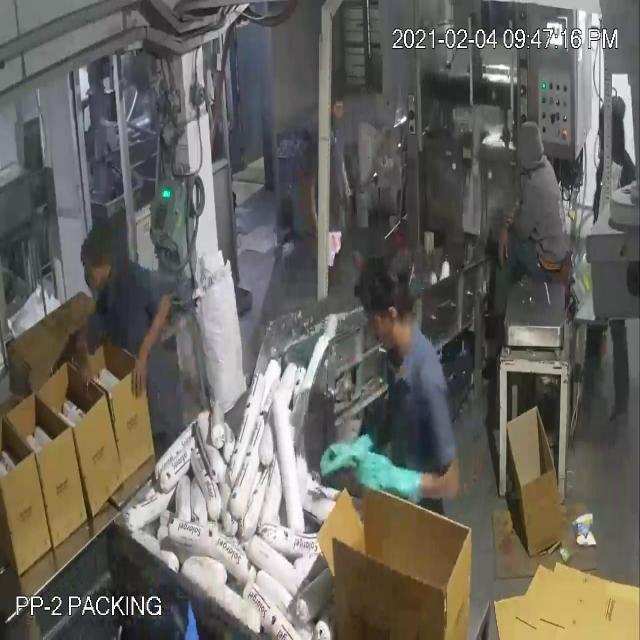Gloves: (38, 66, 410, 482)
